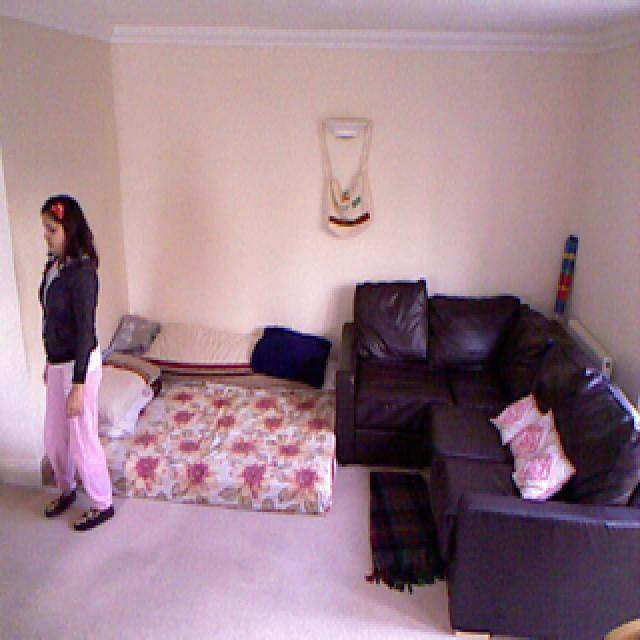standing: (24, 194, 128, 542)
